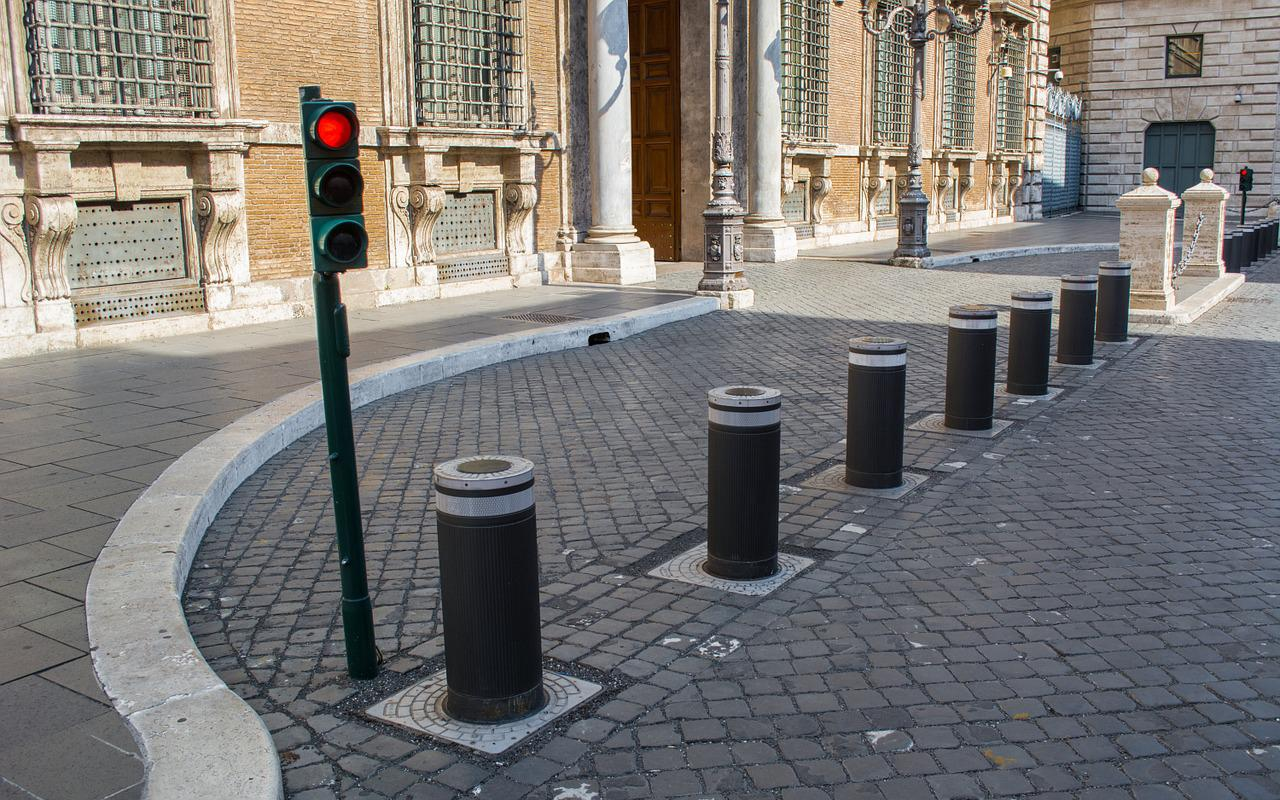bollard: (439, 459, 544, 714), (714, 393, 785, 582), (847, 336, 913, 486), (946, 305, 992, 443), (1053, 275, 1102, 368), (1016, 292, 1055, 398), (1104, 261, 1137, 343)
trafficlight: (304, 105, 373, 286), (1237, 168, 1251, 198)
